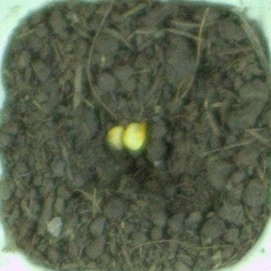chilli seed: (122, 120, 148, 150), (105, 124, 129, 148)
